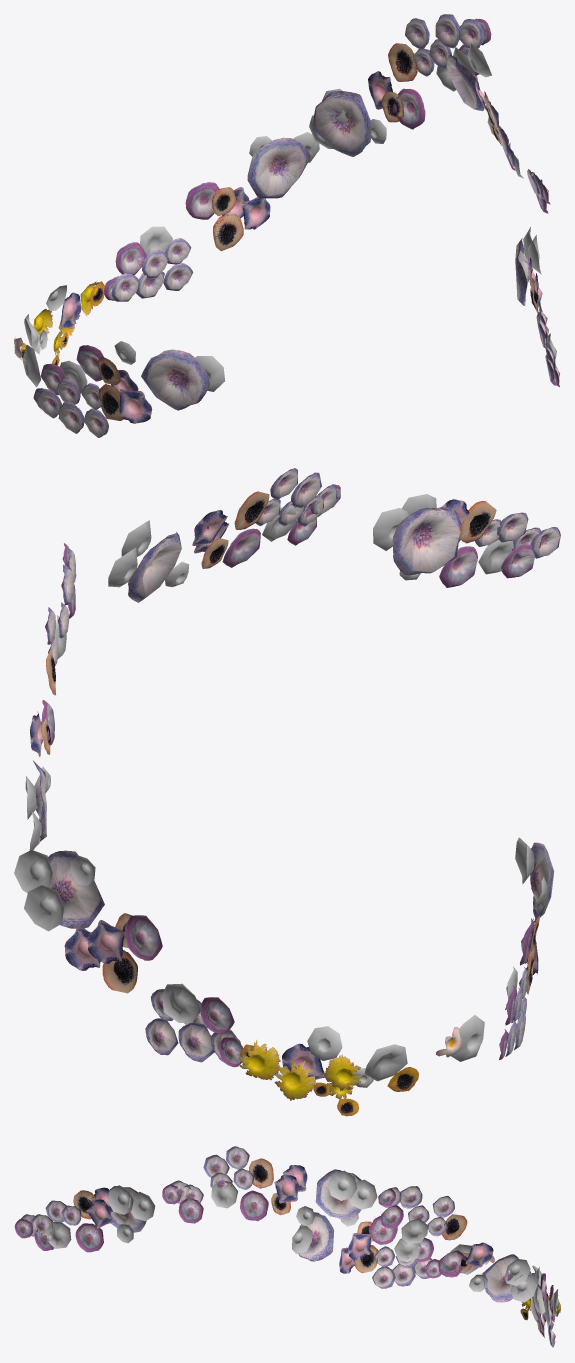
Rendered from Left_Flower6.fbx.
3 renders of one model, top to bottom at view 1: azimuth 30°, elevation 25°; view 2: azimuth 150°, elevation 25°; view 3: azimuth 270°, elevation 25°, orthographic. The views are drawn at different scales.
Visible parts, largest first — view 1: Circle.2429, Circle.2391, Circle.2410, Circle.2372, Circle.2416, Circle.2412, Circle.2380, Circle.2399, Circle.2393, Circle.2401, Circle.2397, Circle.2353 (+15 smaller); view 2: Circle.2353, Circle.2410, Circle.2372, Circle.2414, Circle.2412, Circle.2413, Circle.2398, Circle.2429, Circle.2411, Circle.2459, Circle.2440, Circle.2399 (+15 smaller); view 3: Circle.2372, Circle.2429, Circle.2391, Circle.2374, Circle.2376, Circle.2355, Circle.2375, Circle.2361, Circle.2357, Circle.2356, Circle.2360, Circle.2373 (+38 smaller).
Part boxes in pixels (box(x1,y1,x2,y2)): Circle.2429: box(141, 349, 210, 410); Circle.2391: box(312, 91, 371, 156); Circle.2410: box(247, 137, 310, 198); Circle.2372: box(446, 53, 484, 111); Circle.2416: box(119, 389, 152, 423); Circle.2412: box(185, 182, 219, 219); Circle.2380: box(388, 43, 417, 81); Circle.2399: box(213, 214, 243, 251); Circle.2393: box(392, 88, 425, 129); Circle.2401: box(115, 242, 146, 275); Circle.2397: box(241, 197, 270, 229); Circle.2353: box(515, 238, 532, 305); Circle.2353: box(392, 507, 461, 575); Circle.2410: box(48, 850, 104, 928); Circle.2372: box(128, 532, 181, 602); Circle.2414: box(24, 885, 64, 931); Circle.2412: box(124, 915, 162, 960); Circle.2413: box(14, 850, 52, 893); Circle.2398: box(87, 920, 124, 963); Circle.2429: box(530, 842, 554, 922); Circle.2411: box(162, 983, 201, 1022); Circle.2459: box(364, 1044, 407, 1081); Circle.2440: box(239, 1039, 280, 1080); Circle.2399: box(102, 950, 137, 993); Circle.2372: box(315, 1169, 361, 1219); Circle.2429: box(298, 1212, 334, 1261); Circle.2391: box(482, 1254, 521, 1302); Circle.2374: box(240, 1190, 268, 1221); Circle.2376: box(327, 1170, 357, 1200); Circle.2355: box(75, 1223, 103, 1252); Circle.2375: box(349, 1179, 377, 1209); Circle.2361: box(249, 1158, 273, 1188); Circle.2357: box(108, 1185, 133, 1214); Circle.2356: box(128, 1192, 155, 1220); Circle.2360: box(274, 1175, 298, 1203); Circle.2373: box(211, 1180, 237, 1208).
Size of the model in its own units: 204 by 166 by 312.
